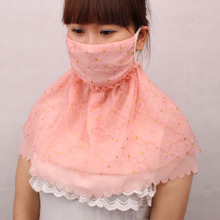face_mask: (65, 3, 134, 83)
